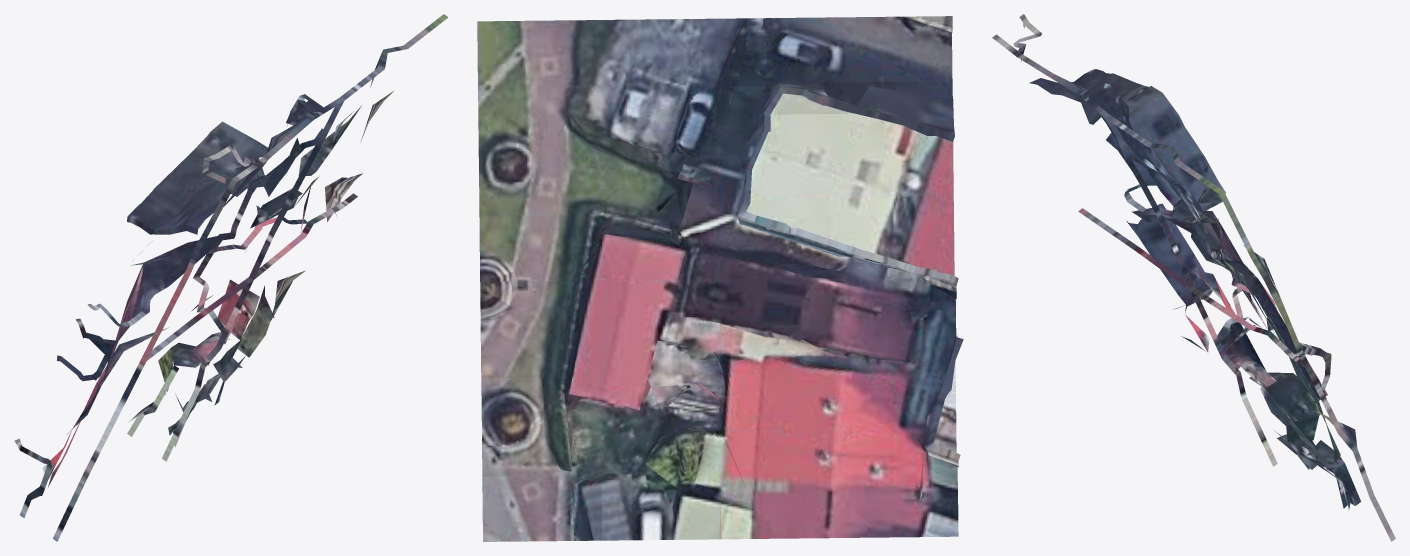
3 views of the same model, side by side, from view 1: azimuth 30°, elevation 25°; view 2: azimuth 150°, elevation 25°; view 3: azimuth 270°, elevation 25° (orthographic). The views are drawn at different scales.
Bounding box in the file's own units: 39.92 × 36.05 × 32.19.
Materials: 2 (2 with a texture image).
